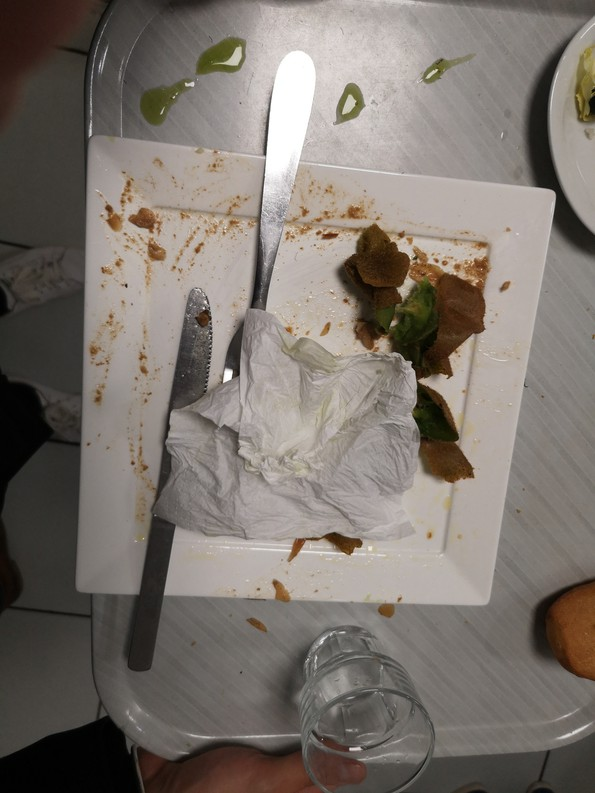cup: (285, 616, 446, 793)
cutlery: (114, 285, 224, 681), (232, 35, 339, 325)
orga: (345, 226, 482, 381), (388, 372, 485, 480), (541, 584, 595, 689)
trash: (180, 306, 420, 558)
